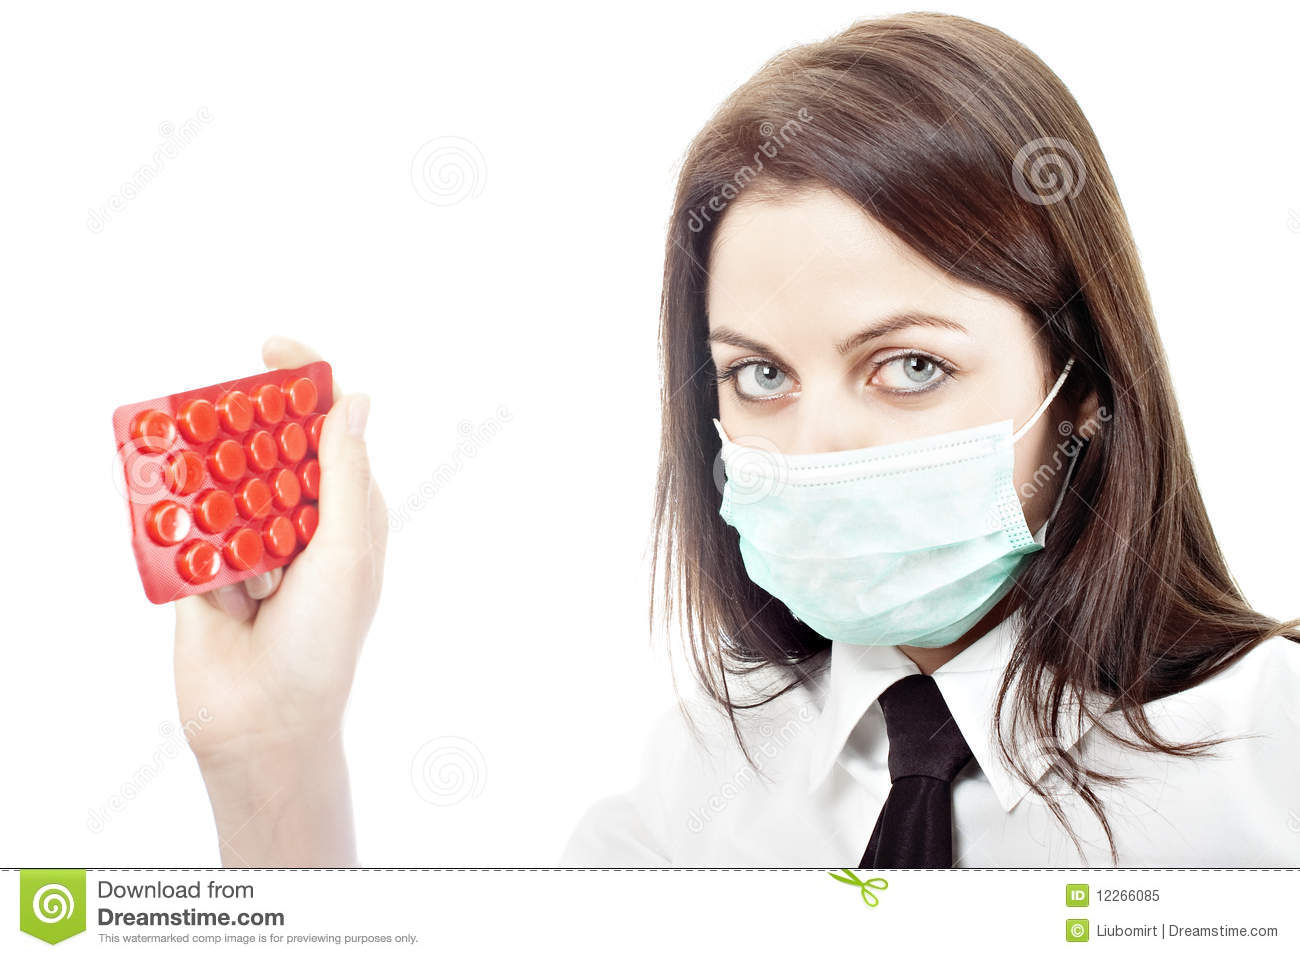mask: (711, 426, 1049, 645)
